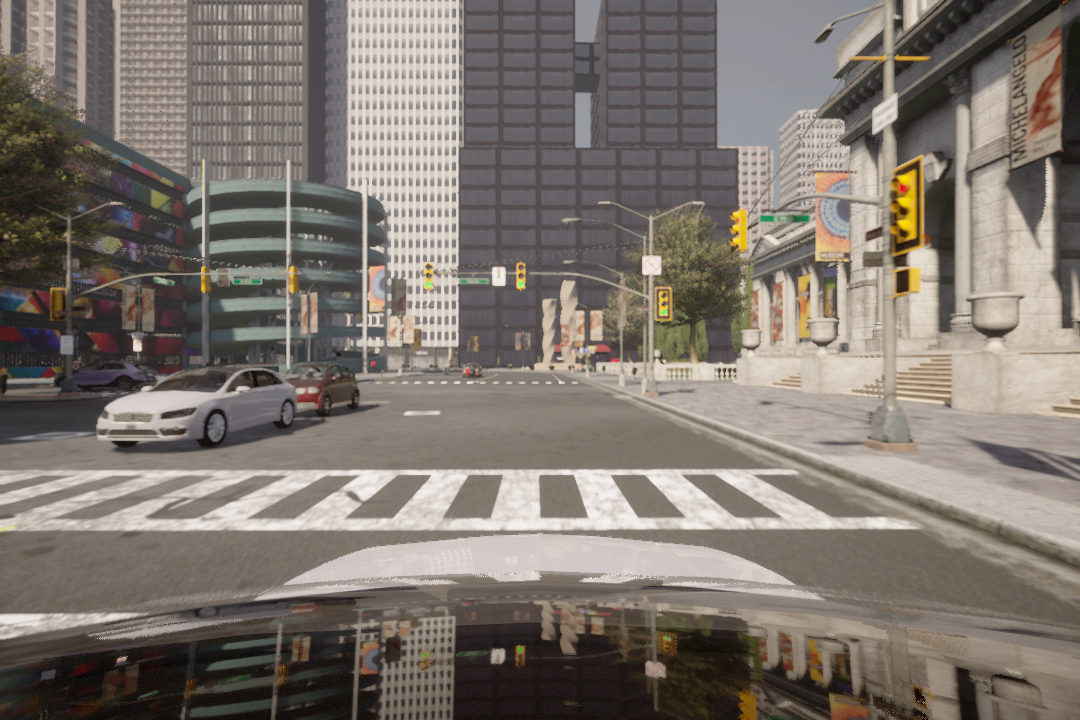TrafficLight: (886, 159, 924, 249), (655, 288, 675, 326), (421, 261, 437, 293), (515, 261, 528, 295)
TrafficSign: (641, 251, 662, 277)
walkside: (1, 467, 911, 537)
